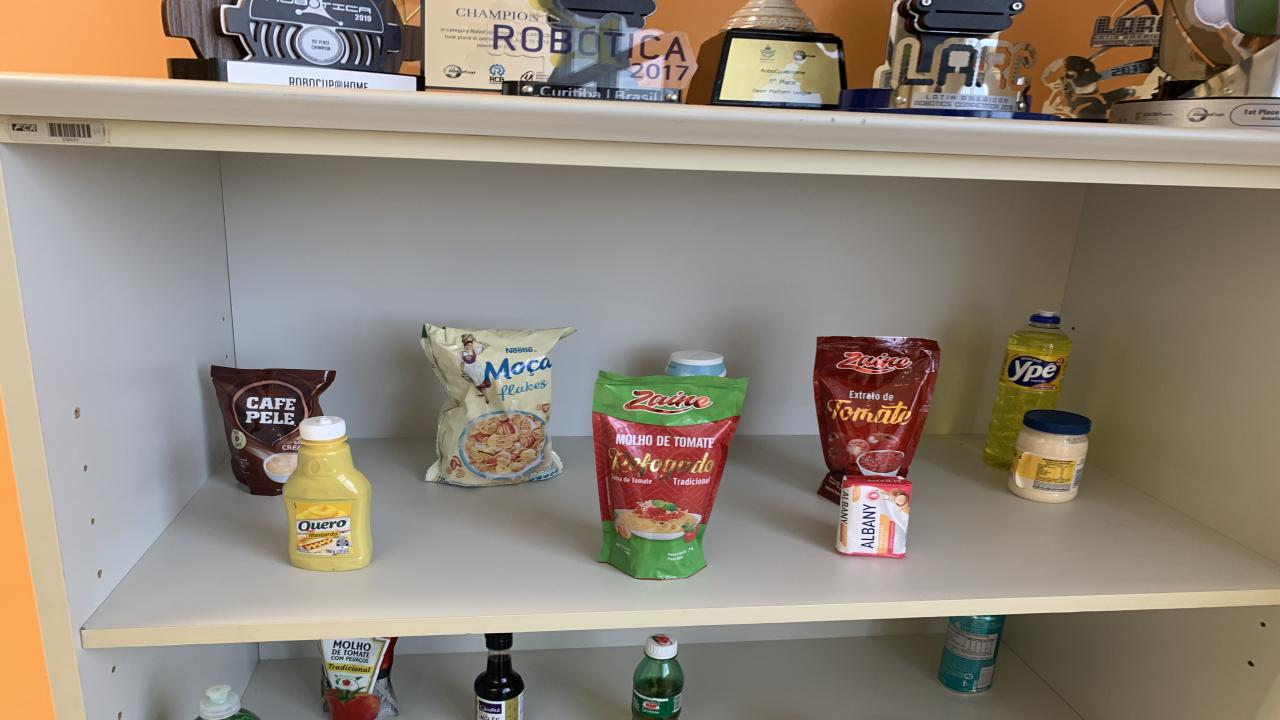Cleaner-Cleanup_Items: (665, 351, 725, 377)
Coffee-Pantry_Items: (210, 366, 335, 495)
Detergent-Cleanup_Items: (982, 311, 1072, 469), (198, 684, 260, 720)
English_Sauce-Pantry_Items: (475, 632, 525, 720)
Flakes-Snacks: (422, 324, 572, 488)
Guarana-Drinks: (632, 634, 685, 720)
Mayonnaise-Pantry_Items: (1008, 409, 1090, 502)
Mustard-Pantry_Items: (282, 416, 372, 572)
Soap-Cleanup_Items: (835, 476, 912, 557)
Tea-Drinks: (938, 615, 1005, 692)
Tomato_Sauce-Pantry_Items: (592, 371, 748, 579), (812, 336, 940, 501), (318, 638, 398, 720)
